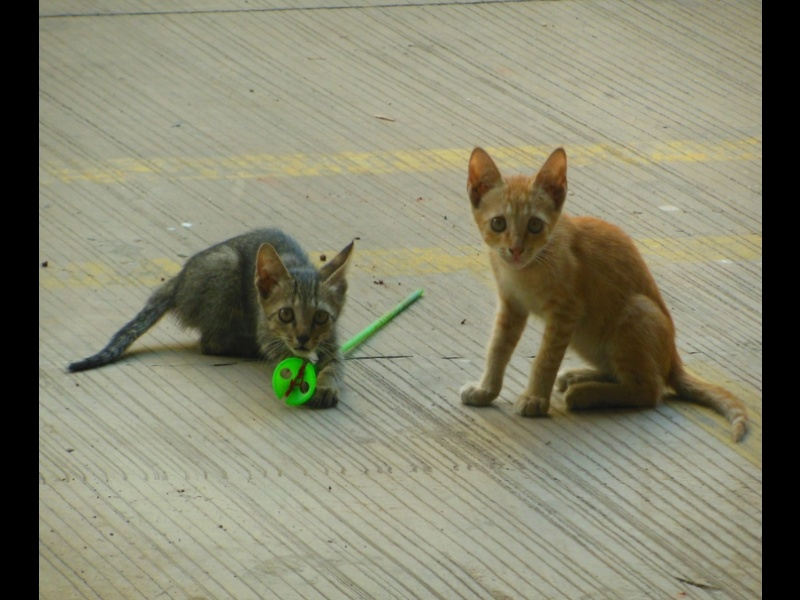cat: (459, 139, 753, 446), (64, 222, 357, 416)
